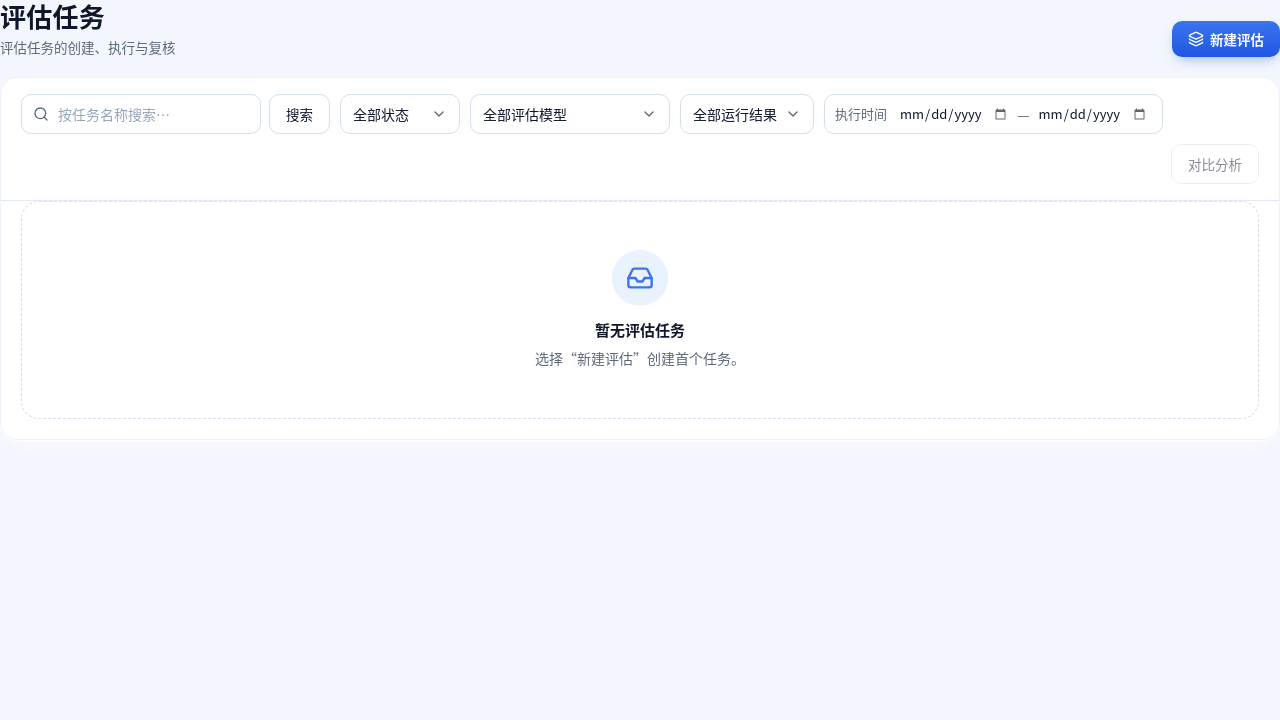
Test: EvalTasksPage agent quick eval › 任务列表优先，以新建评估进入方案选择并保留专项能力
Expected: the text "暂无评估任务" is shown, [595,319,685,340]
What coordinates should you click on to do the following:
click the button "新建评估"
I would click on:
 (1226, 39)
Its box is [1172,21,1279,57].
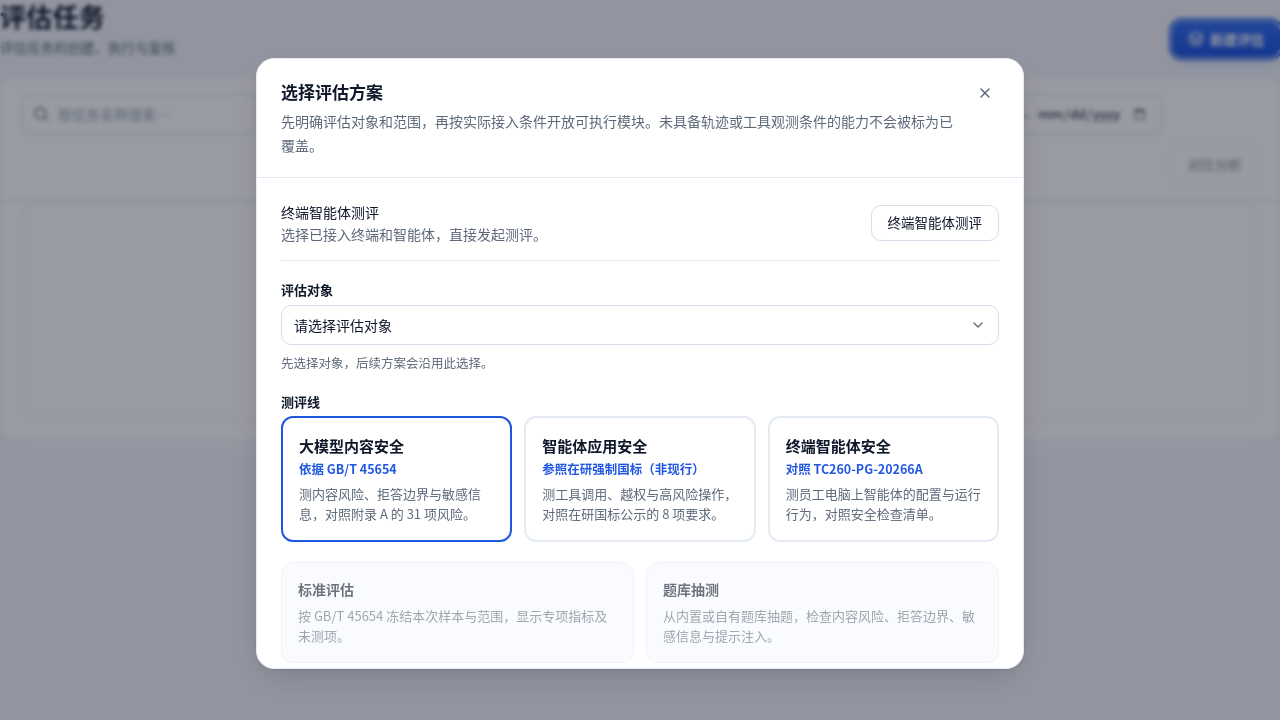
Expected: the heading "选择评估方案" is shown, [281,79,383,104]
Expected: the button "题库抽测 从内置或自有题库抽题，检查内容风险、拒答边界、敏感信息与提示注入。" is disabled, [646,562,999,663]
Expected: the button "大模型内容安全 依据 GB/T 45654 测内容风险、拒答边界与敏感信息，对照附录 A 的 31 项风险。" is shown, [281,416,512,542]
What coordinates should you click on to do the following:
click the button "智能体应用安全 参照在研强制国标（非现行） 测工具调用、越权与高风险操作，对照在研国标公示的 8 项要求。"
I would click on:
 (640, 479)
Its box is [524,416,756,542].
(page scrolled)
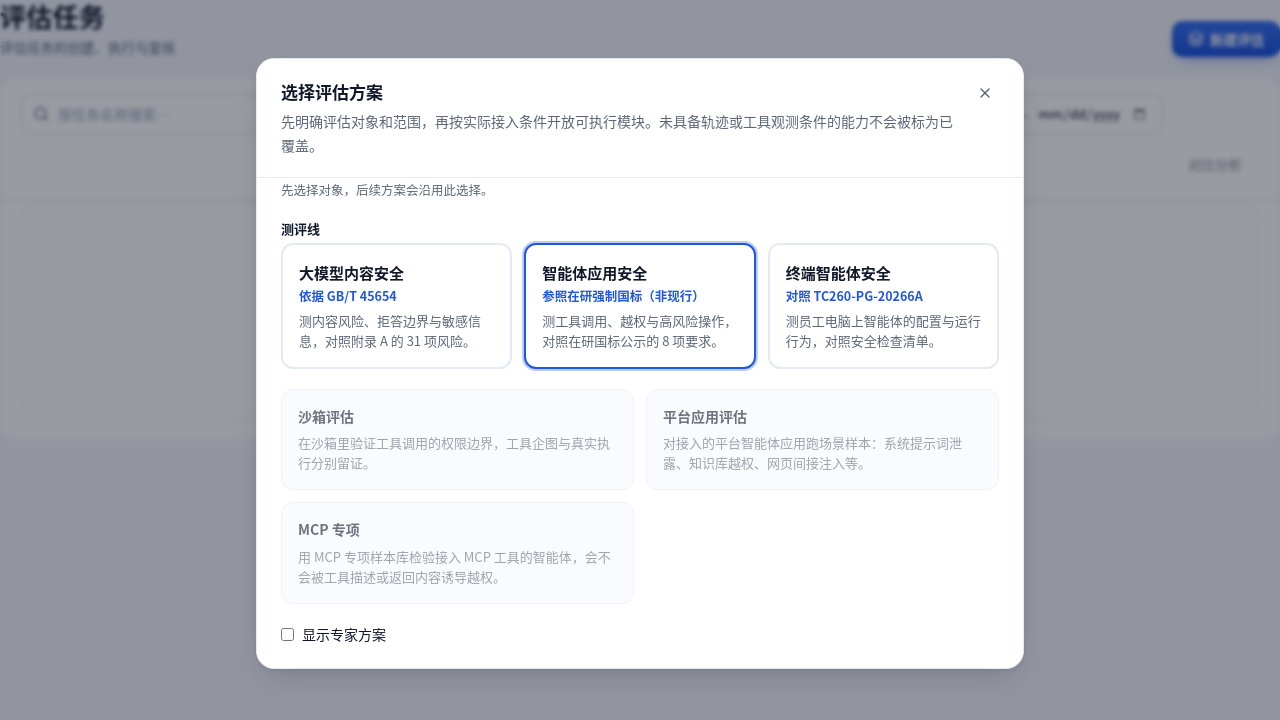
Expected: the button "沙箱评估 在沙箱里验证工具调用的权限边界，工具企图与真实执行分别留证。" is shown, [281,389,634,490]
Expected: the button "平台应用评估 对接入的平台智能体应用跑场景样本：系统提示词泄露、知识库越权、网页间接注入等。" is shown, [646,389,999,490]
Expected: the button "MCP 专项 用 MCP 专项样本库检验接入 MCP 工具的智能体，会不会被工具描述或返回内容诱导越权。" is shown, [281,502,634,604]
What coordinates should you click on to do the following:
click the checkbox labelled "显示专家方案"
I would click on:
 (288, 634)
Its box is [281,628,294,640].
(page scrolled)
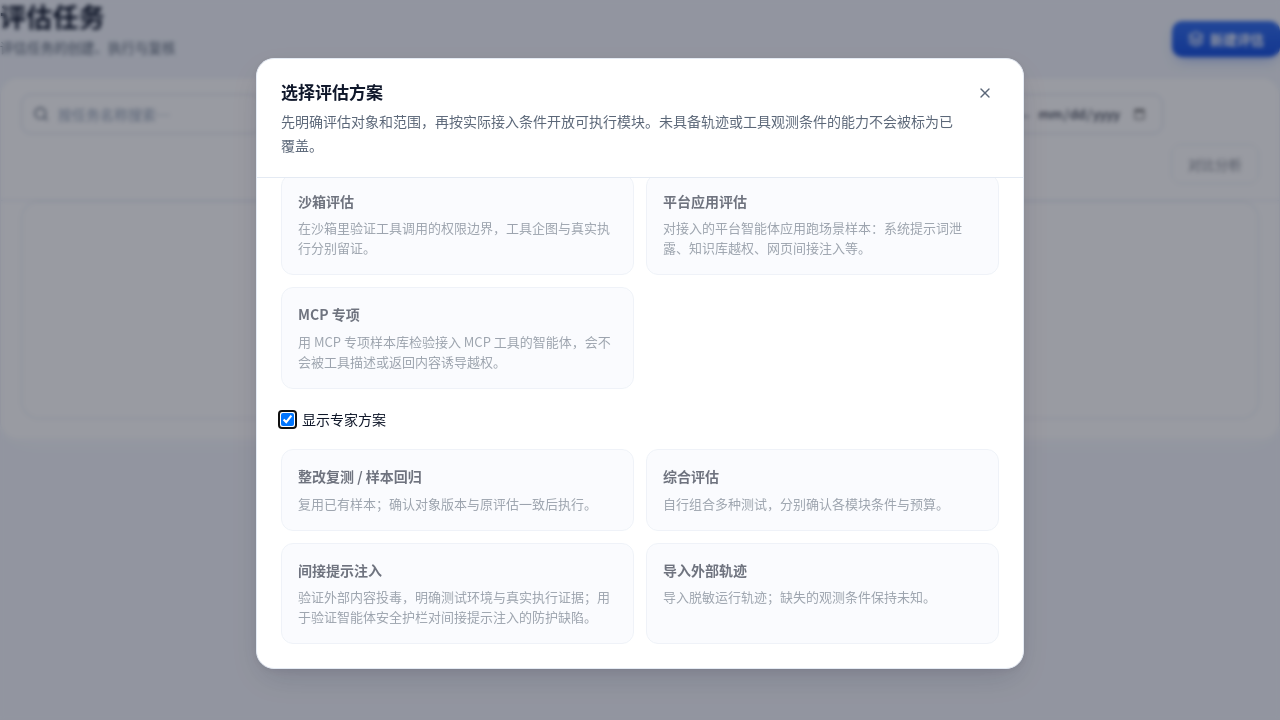
Expected: the button "导入外部轨迹 导入脱敏运行轨迹；缺失的观测条件保持未知。" is shown, [646,543,999,644]
